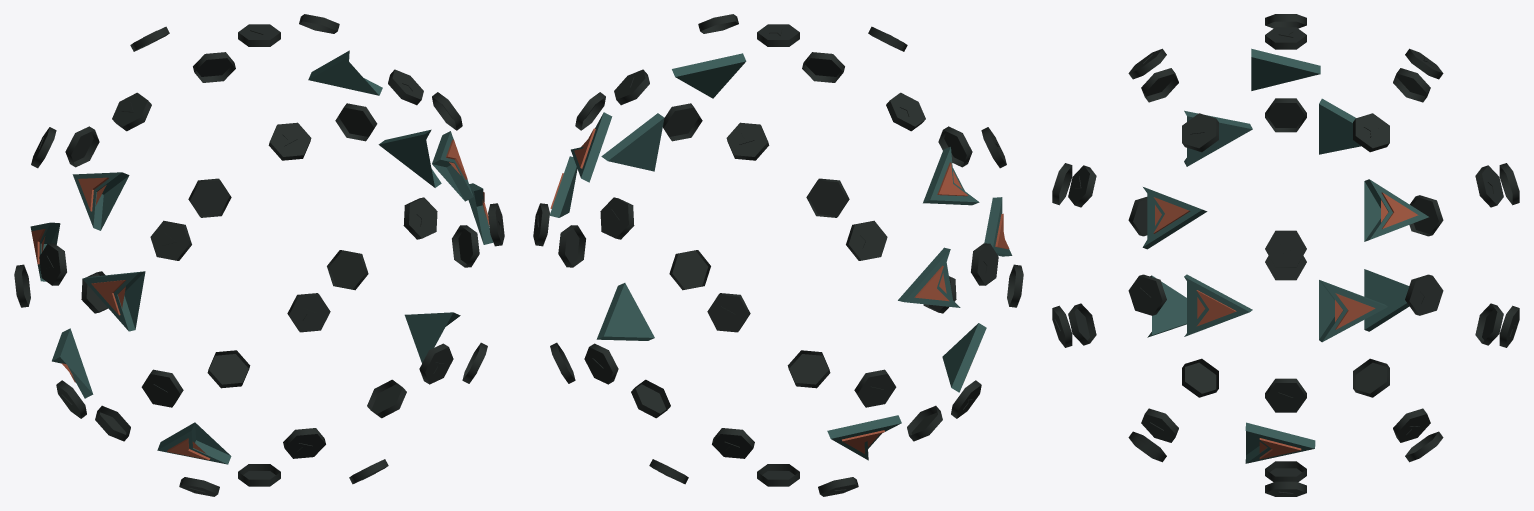
File: shell_rivet_c3.glb
3 views of the same model, side by side, from view 1: azimuth 30°, elevation 25°; view 2: azimuth 150°, elevation 25°; view 3: azimuth 270°, elevation 25° (orthographic).
Parts seen in each view (by area): view 1: Core, Pod; view 2: Core, Pod; view 3: Core, Pod.
Boxes of the visible parts, bbox=[...] form: Core: bbox=[14, 14, 504, 496]; Pod: bbox=[30, 50, 493, 464]; Core: bbox=[533, 14, 1023, 496]; Pod: bbox=[549, 53, 1012, 460]; Core: bbox=[1052, 14, 1519, 496]; Pod: bbox=[1142, 48, 1428, 463].
Size of the model in its own units: 1.95 by 1.97 by 1.89.
